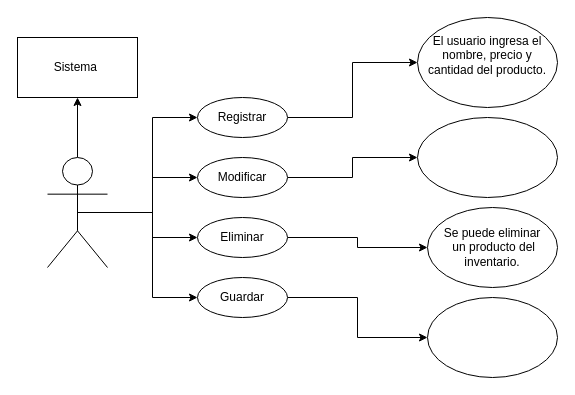
Some shapes in this 575 by 395 pixel diagram are drawn without their labels. The box of each missing label's shape, as (x1, y1, x2, y2) in pixels:
El usuario edita la información de un producto existente.: (416, 116, 558, 198)
Se puede guardar todas las caracteristicas de un producto: (426, 296, 558, 378)
Usuario (Admin/Vendedor): (46, 156, 108, 268)
